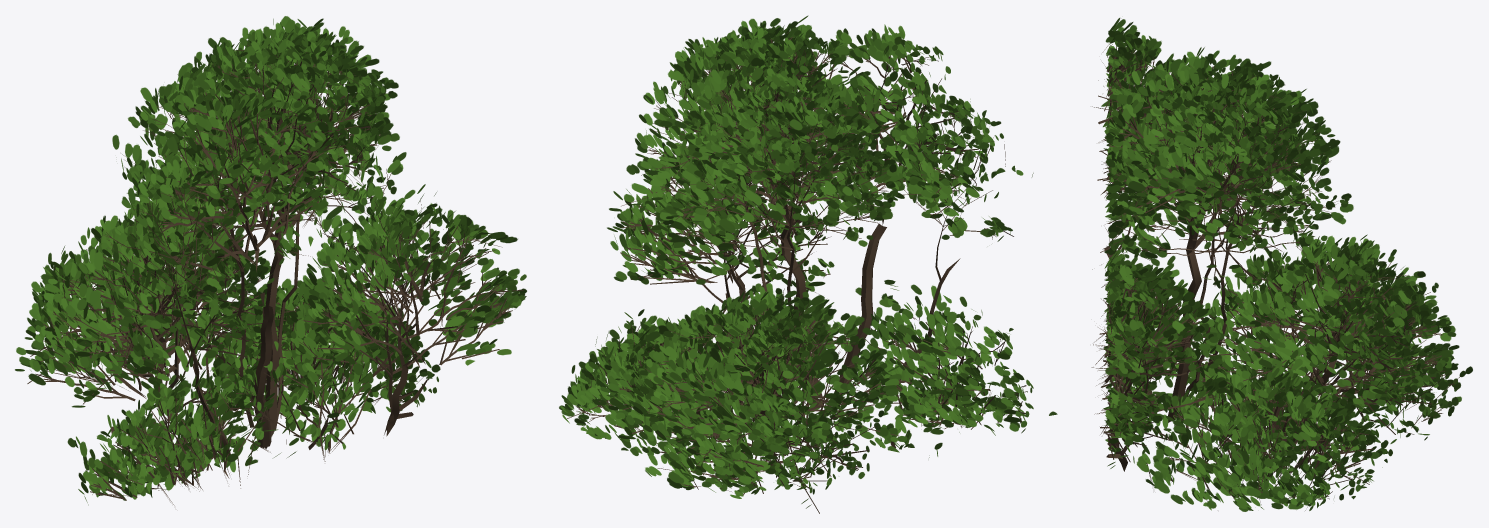
3 renders of one model, left to right at view 1: azimuth 30°, elevation 25°; view 2: azimuth 150°, elevation 25°; view 3: azimuth 270°, elevation 25°, orthographic. The views are drawn at different scales.
Parts seen in each view (by area): view 1: oak 01.001_trunk_Mat.001_0.321; view 2: oak 01.001_trunk_Mat.001_0.321; view 3: oak 01.001_trunk_Mat.001_0.321.
Part boxes in pixels (x1,y1,x2,y2): oak 01.001_trunk_Mat.001_0.321: (15, 16, 526, 505); oak 01.001_trunk_Mat.001_0.321: (559, 15, 1057, 513); oak 01.001_trunk_Mat.001_0.321: (1091, 18, 1472, 511).
Bounding box in the file's own units: 3.61 × 3.16 × 2.77.
Materials: 2 (1 with a texture image).
